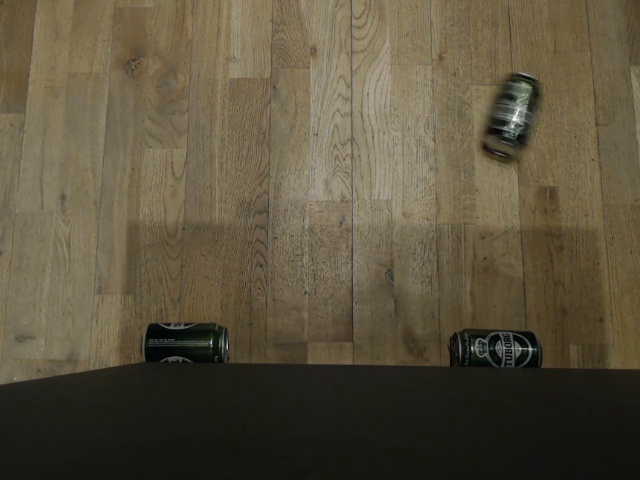beer: (483, 69, 539, 157), (140, 321, 229, 364), (449, 327, 542, 368)
